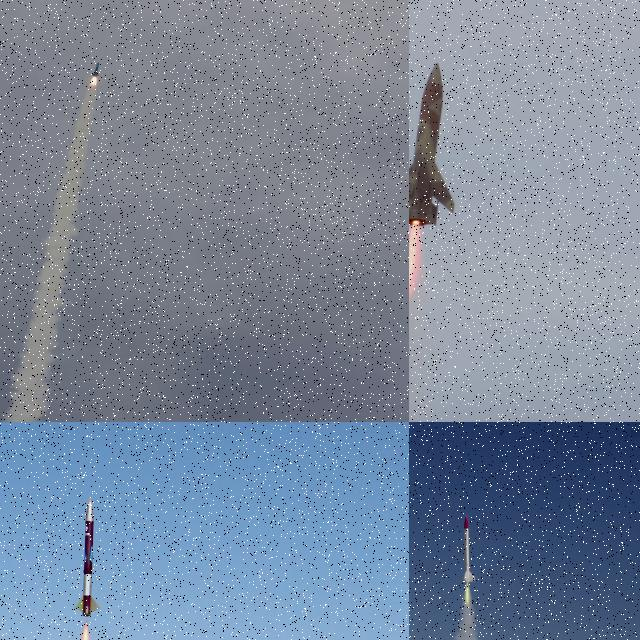Rocket: (409, 62, 455, 227), (72, 498, 103, 618), (459, 514, 476, 584), (91, 62, 100, 77)
